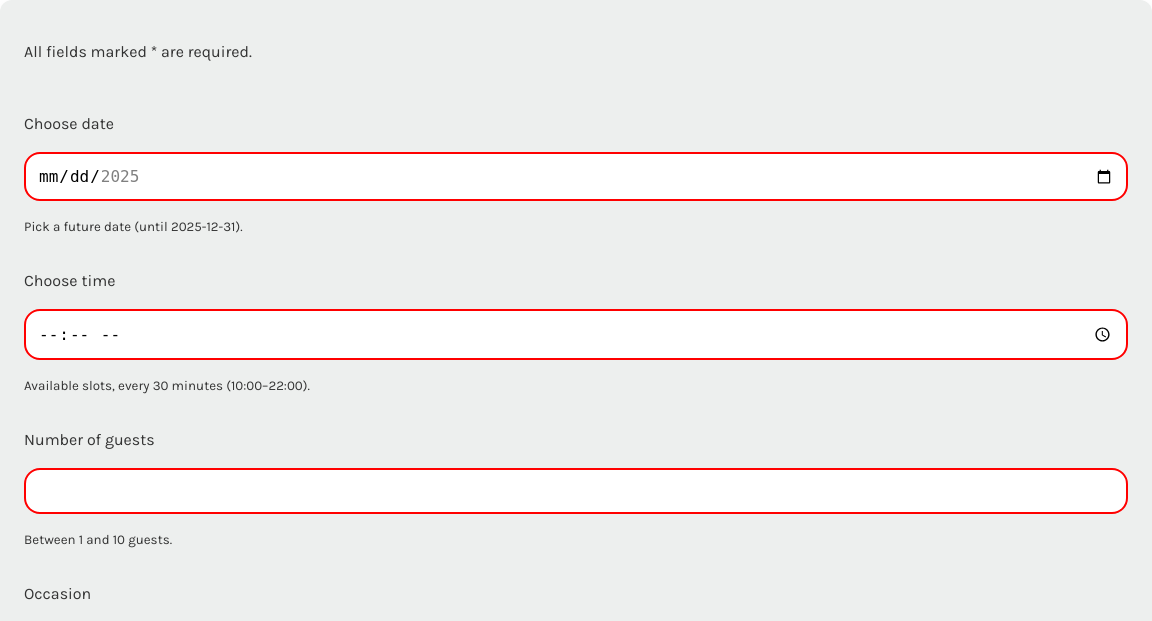
Scenario: BookingForm – JavaScript validation behavior › shows date error when past date is entered and blurred
Type "2020-01-01" into the date field labelled "Choose date" at x=576, y=176, box [24,152,1128,201]
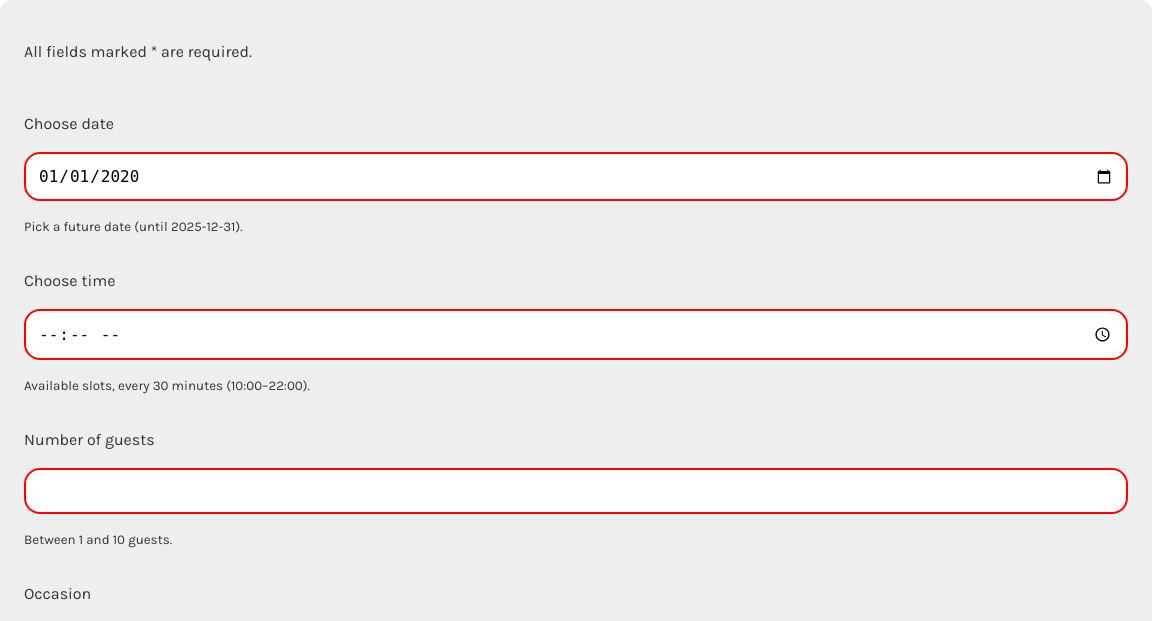
Leave the date field labelled "Choose date", box [24,152,1128,201]
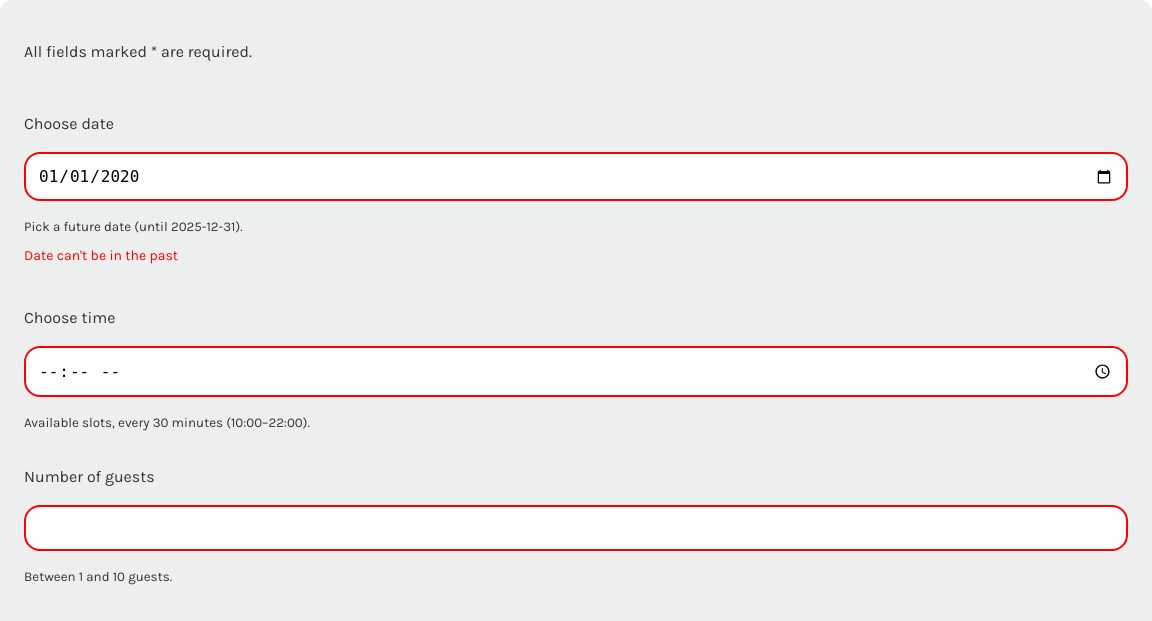
Expected: the text "Date can't be in the past" is shown, [24,247,178,264]
